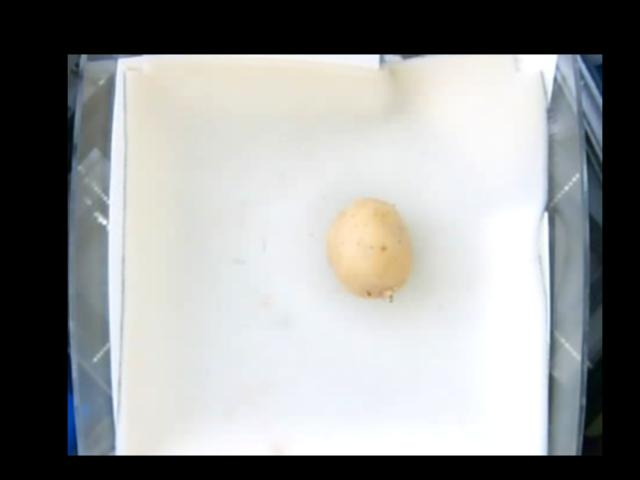Potato: (325, 200, 411, 303)
